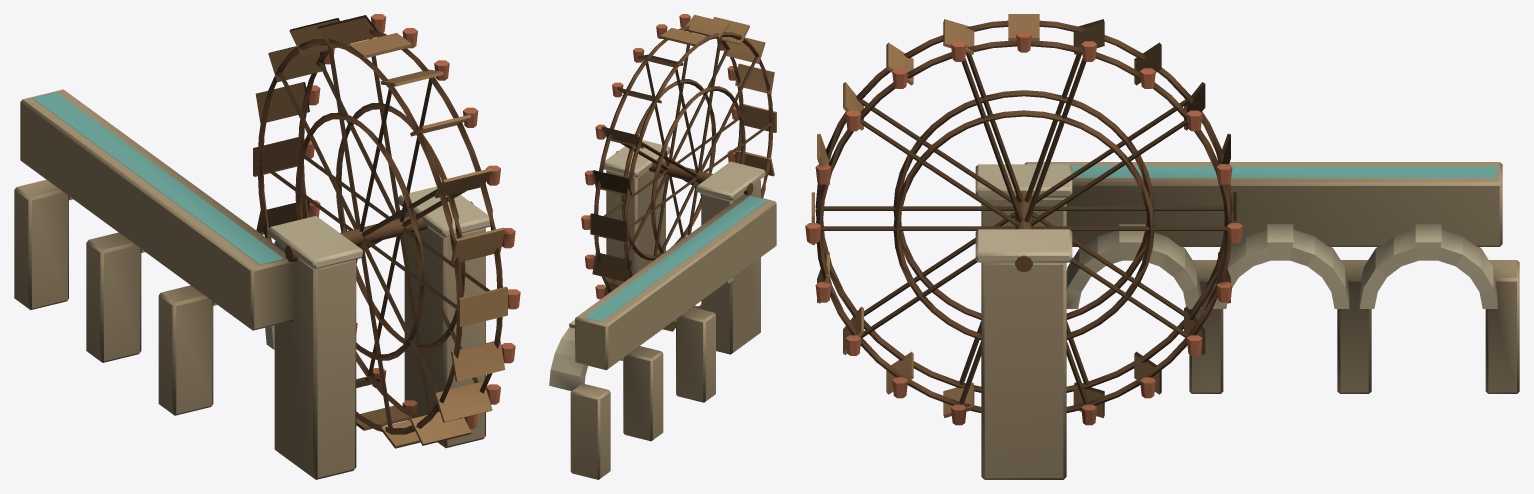
The model's file is noria.glb.
The picture shows the model from 3 angles, left to right: view 1: azimuth 30°, elevation 25°; view 2: azimuth 150°, elevation 25°; view 3: azimuth 270°, elevation 25°; orthographic projection. The views are drawn at different scales.
Parts seen in each view (by area): view 1: noria_mesh; view 2: noria_mesh; view 3: noria_mesh.
Boxes of the visible parts, x1,y1,x2,y2 form: noria_mesh: (14,14,520,479); noria_mesh: (549,14,776,479); noria_mesh: (805,14,1519,479).
Bounding box in the file's own units: 4.57 × 8.1 × 12.54.
